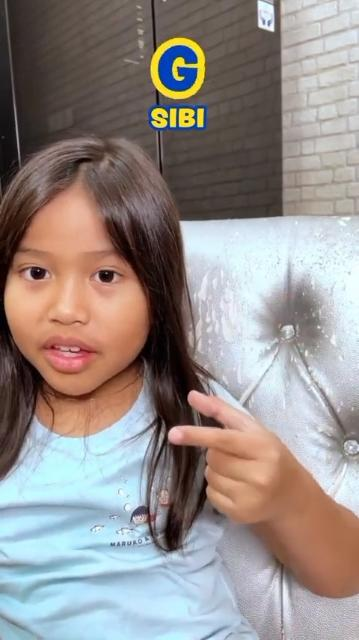G: (164, 386, 306, 532)
